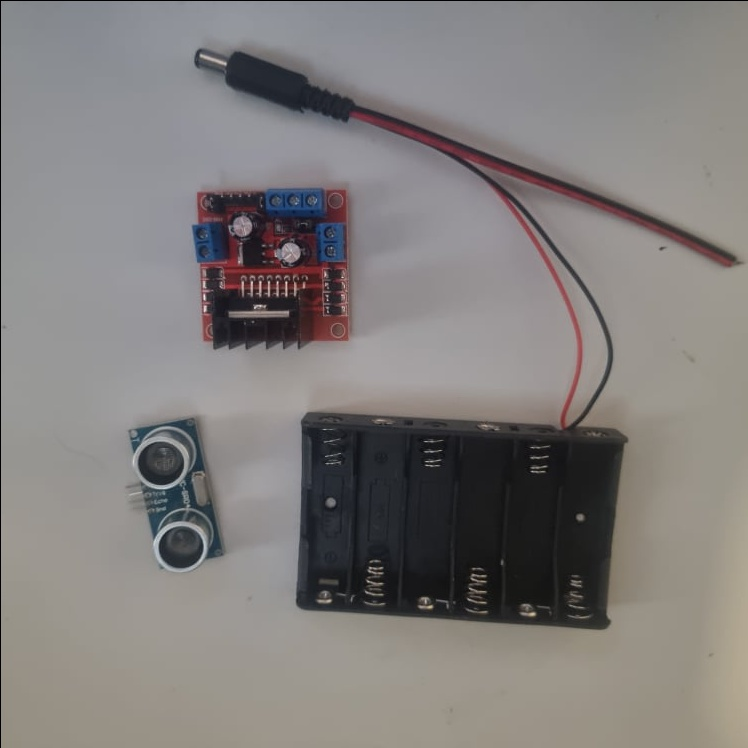BATTERY BOX: (294, 411, 629, 629)
MOTOR: (189, 186, 350, 347)
SENSOR: (117, 413, 227, 572)
